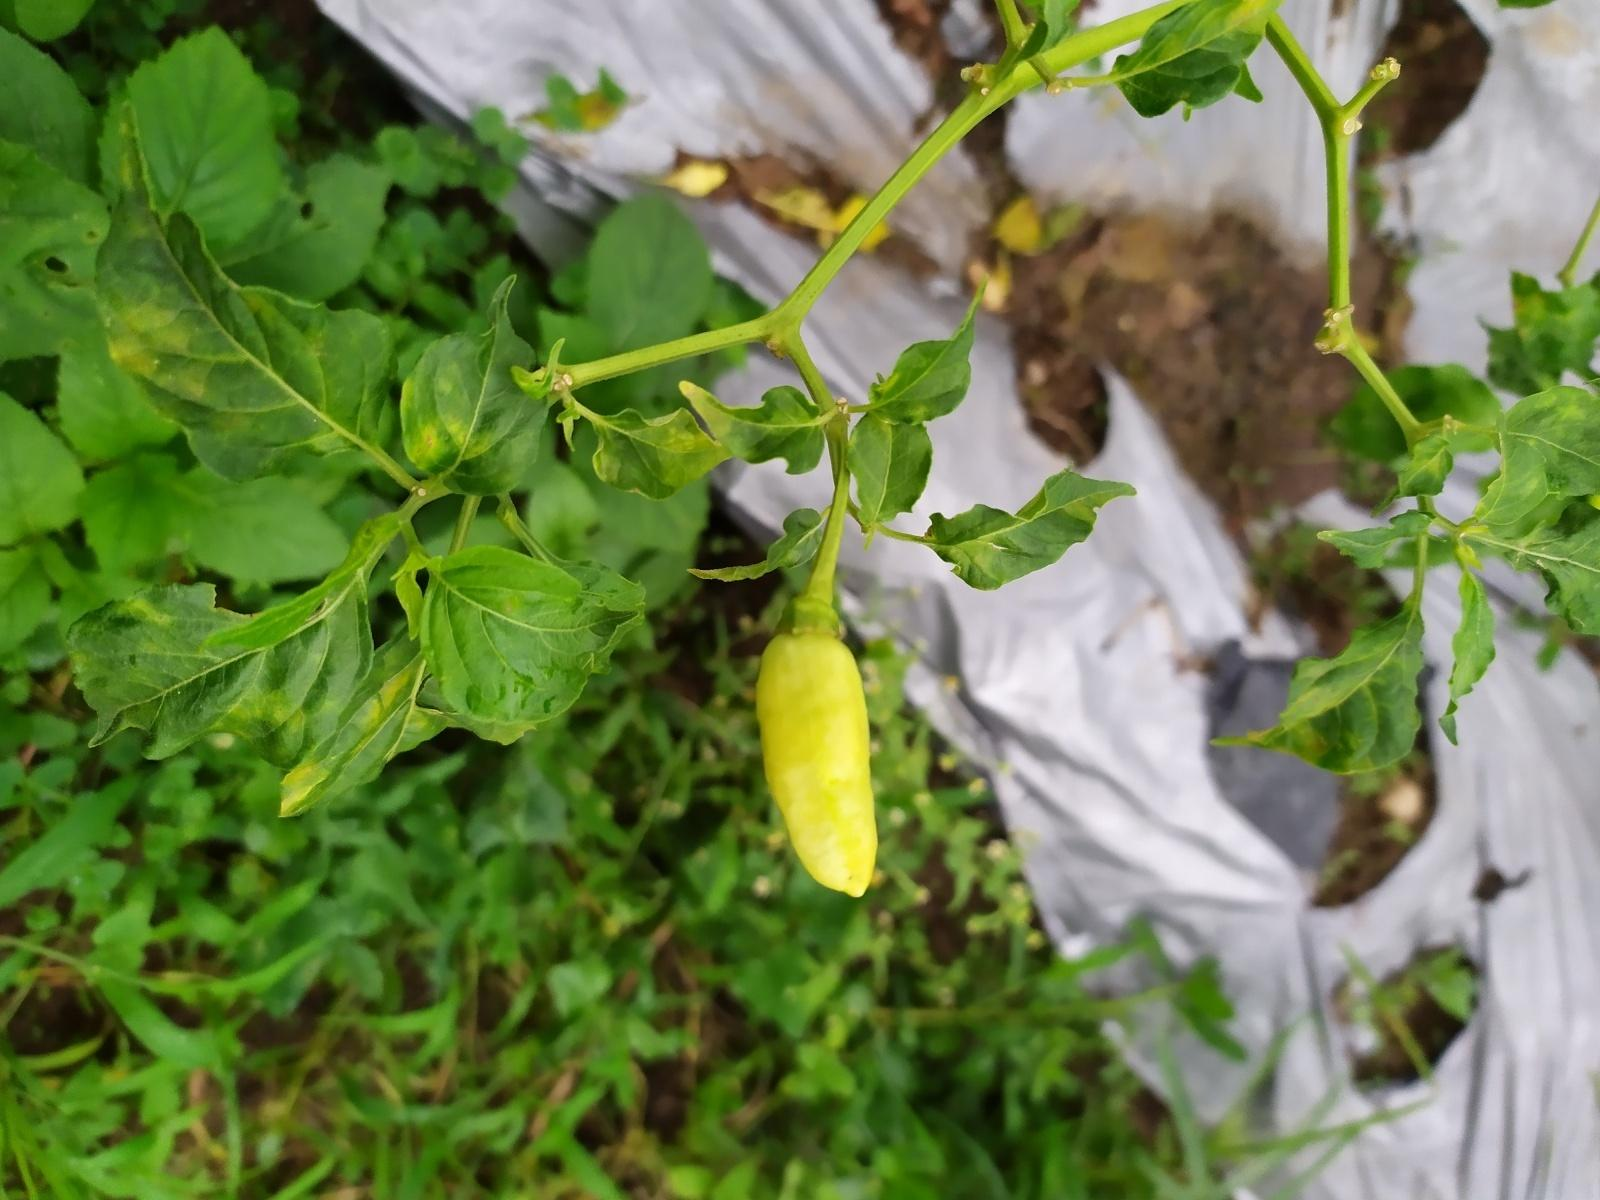cabai_normal: (755, 629, 879, 899)
